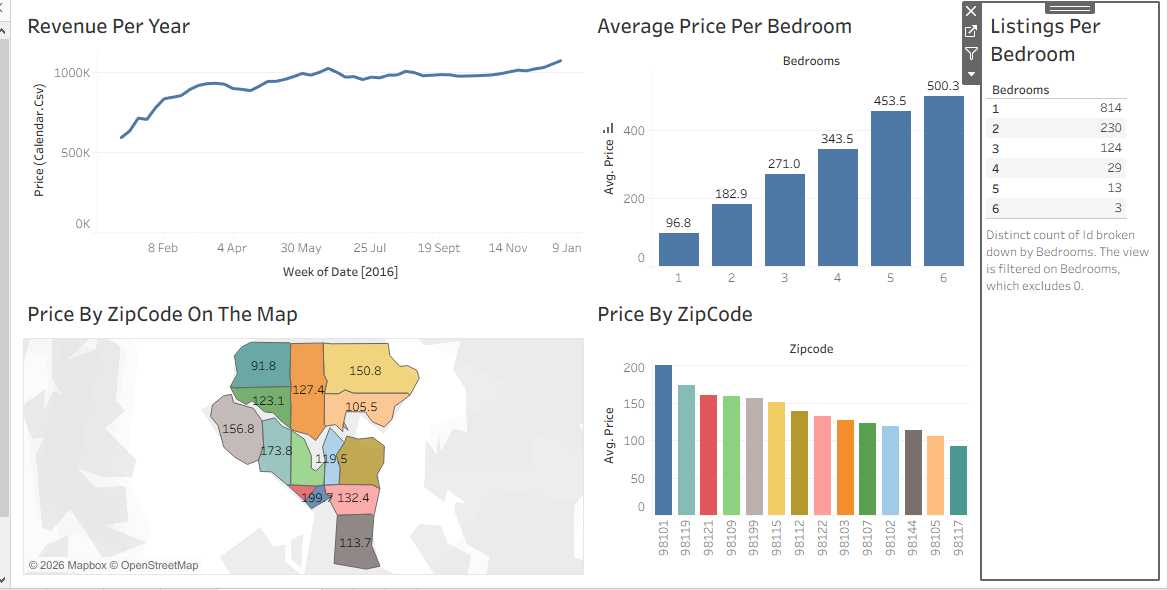

The dashboard page shown, as its layout file describes it:
{"tool":"tableau","page":{"name":"Dashboard 1","canvas":[1000,1000],"units":"permille","ordinal":0},"visuals":[{"type":"worksheet","title":"Sheet 3","mark":"Automatic","rows":["price (calendar.csv)"],"cols":["date"],"box":[6.9,13.5,493.1,486.5]},{"type":"worksheet","title":"Sheet 4","mark":"Automatic","rows":["price"],"cols":["bedrooms"],"box":[500,13.5,333,486.5]},{"type":"worksheet","title":"Sheet 5","mark":"Automatic","rows":["bedrooms"],"box":[840.7,13.5,152.4,973]},{"type":"worksheet","title":"Sheet 2","mark":"Multipolygon","box":[6.9,500,493.1,486.5]},{"type":"worksheet","title":"Sheet 1","mark":"Automatic","rows":["price"],"cols":["zipcode"],"box":[500,500,333,486.5]}]}

Visuals, with their boxes on the dashboard's canvas, which has no fixed pixel size, in thousandths of its width and height (x1, y1, x2, y2). These are canvas units, not pixel positions in the 1167x590 screenshot, which may show the page scaled, cropped or inside an application window:
"Sheet 3" worksheet: <region>7, 14, 500, 500</region>
"Sheet 4" worksheet: <region>500, 14, 833, 500</region>
"Sheet 5" worksheet: <region>841, 14, 993, 986</region>
"Sheet 2" worksheet (Multipolygon marks): <region>7, 500, 500, 986</region>
"Sheet 1" worksheet: <region>500, 500, 833, 986</region>
